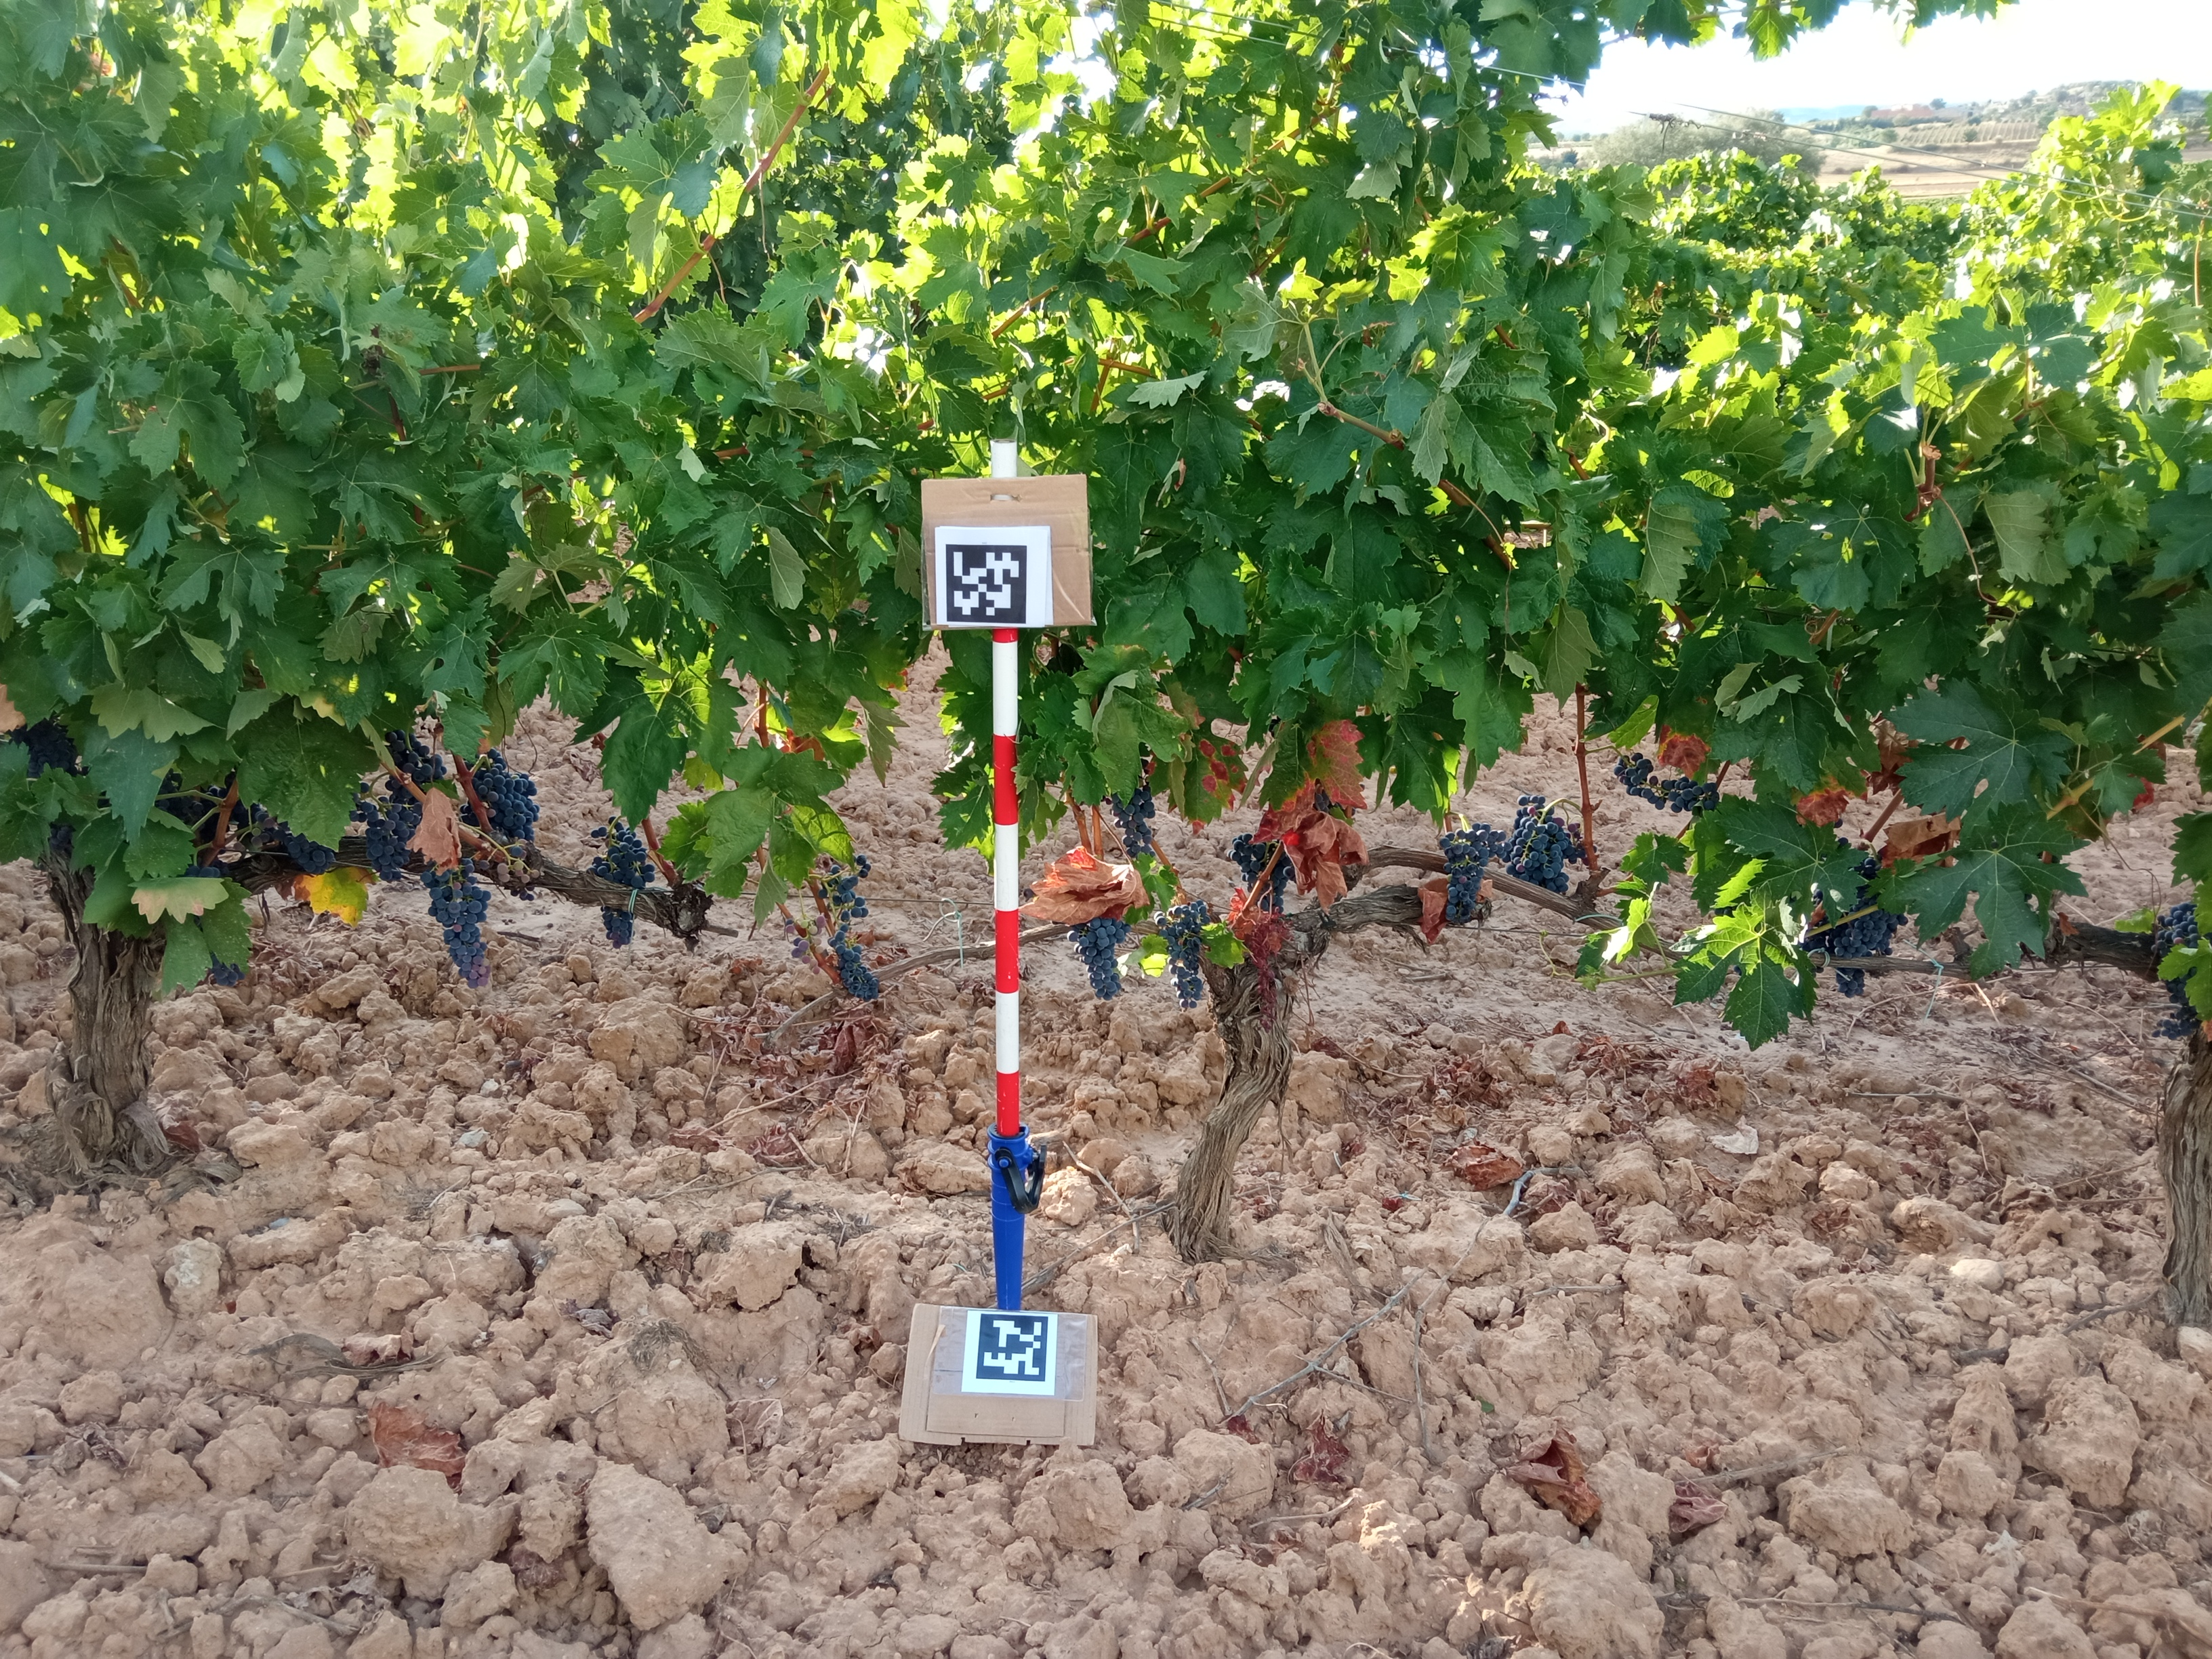grapes: (815, 857, 880, 1000), (423, 863, 496, 986), (1437, 821, 1512, 925), (1508, 791, 1581, 894), (465, 749, 535, 847), (1613, 751, 1721, 812), (2155, 899, 2200, 1044), (1153, 901, 1207, 1012), (354, 791, 421, 878), (1226, 826, 1292, 915), (1066, 915, 1130, 1000), (256, 814, 334, 880), (1815, 910, 1907, 955), (592, 823, 657, 887), (10, 718, 80, 774), (1109, 786, 1157, 861), (387, 723, 444, 784), (780, 913, 826, 971), (596, 904, 636, 950), (503, 850, 538, 897), (164, 793, 204, 824), (1834, 969, 1869, 995), (44, 823, 75, 849), (211, 960, 244, 983)
